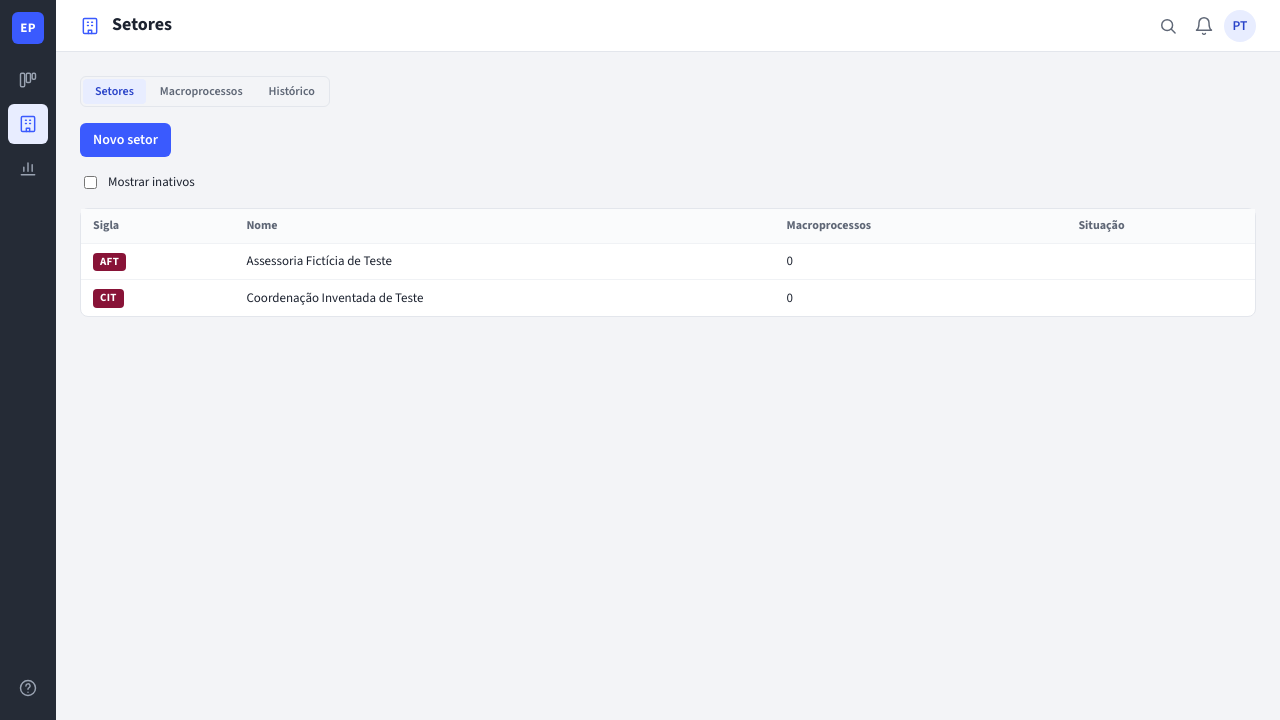
Test: falha ao desativar mostra o motivo em vermelho e o setor continua ativo
Click the cell "AFT" at (158, 262), box [81, 244, 234, 280]
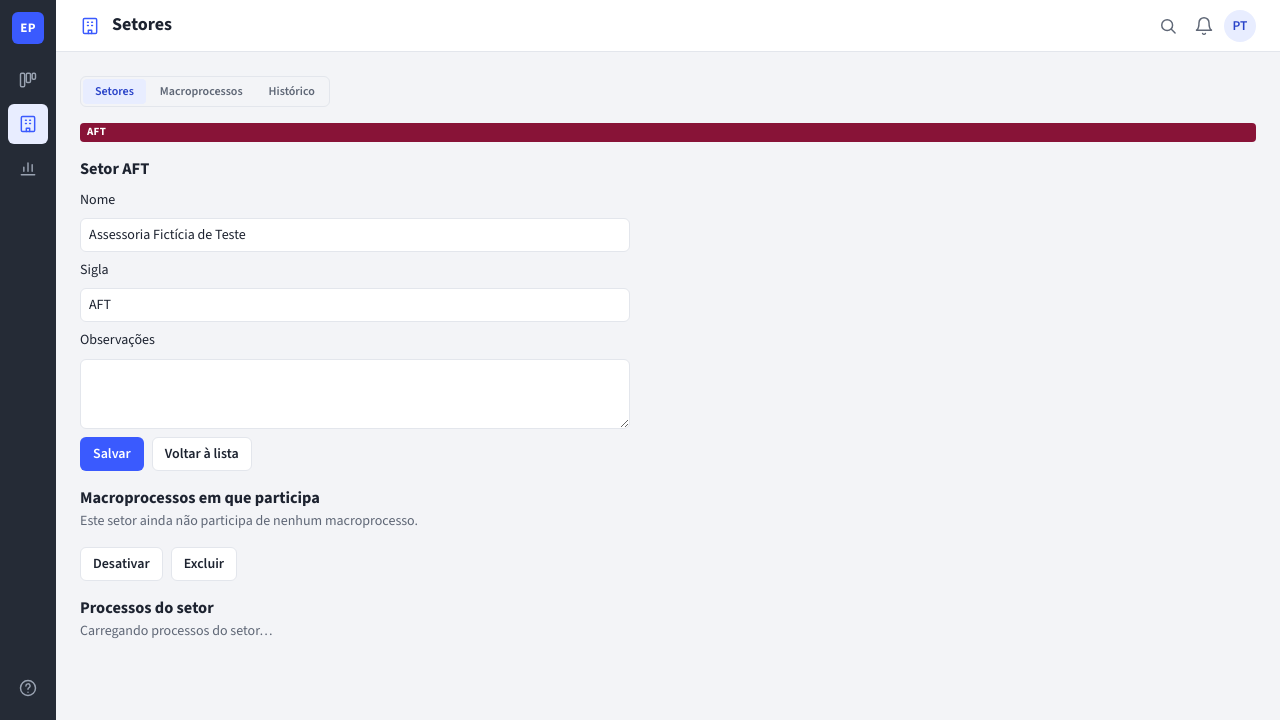
Result: the button "Desativar" is shown
Click the button "Desativar" at (121, 564), box [80, 547, 163, 581]
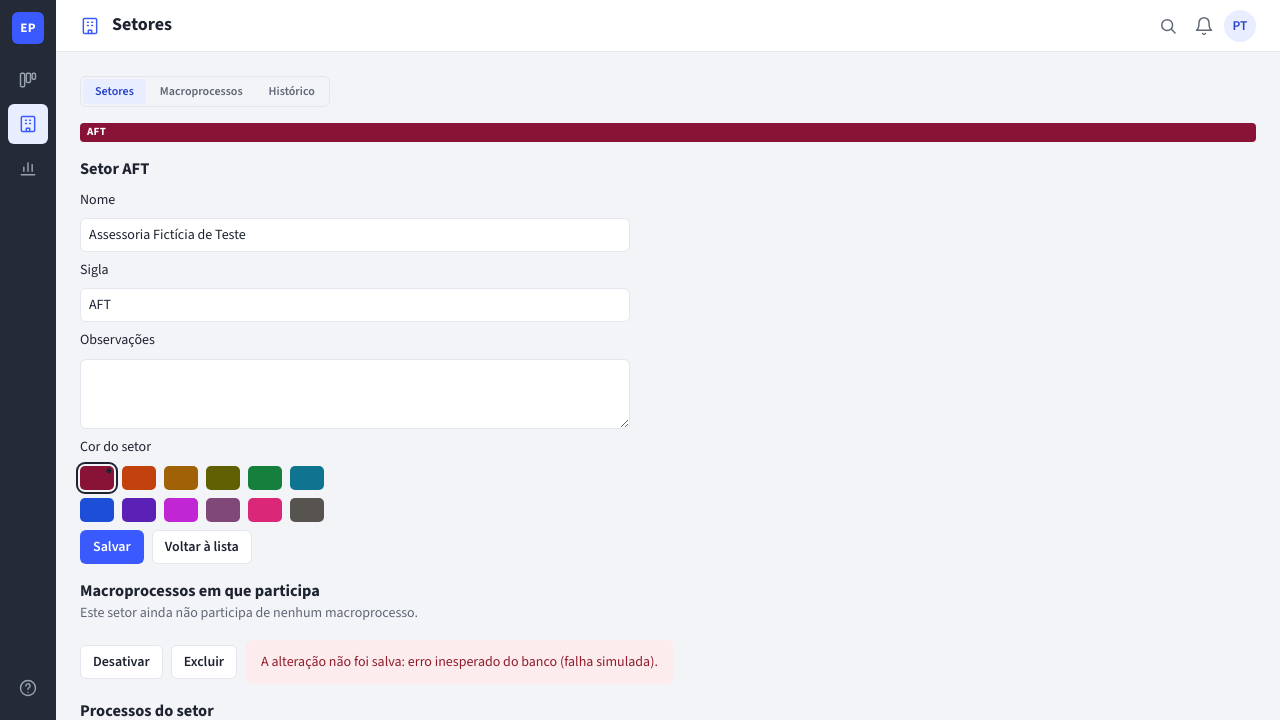
Result: the button "Desativar" is shown at [80, 645, 163, 679]
Result: the message reads "A alteração não foi salva: erro inesperado do banco (falha simulada)." at [261, 652, 658, 672]
